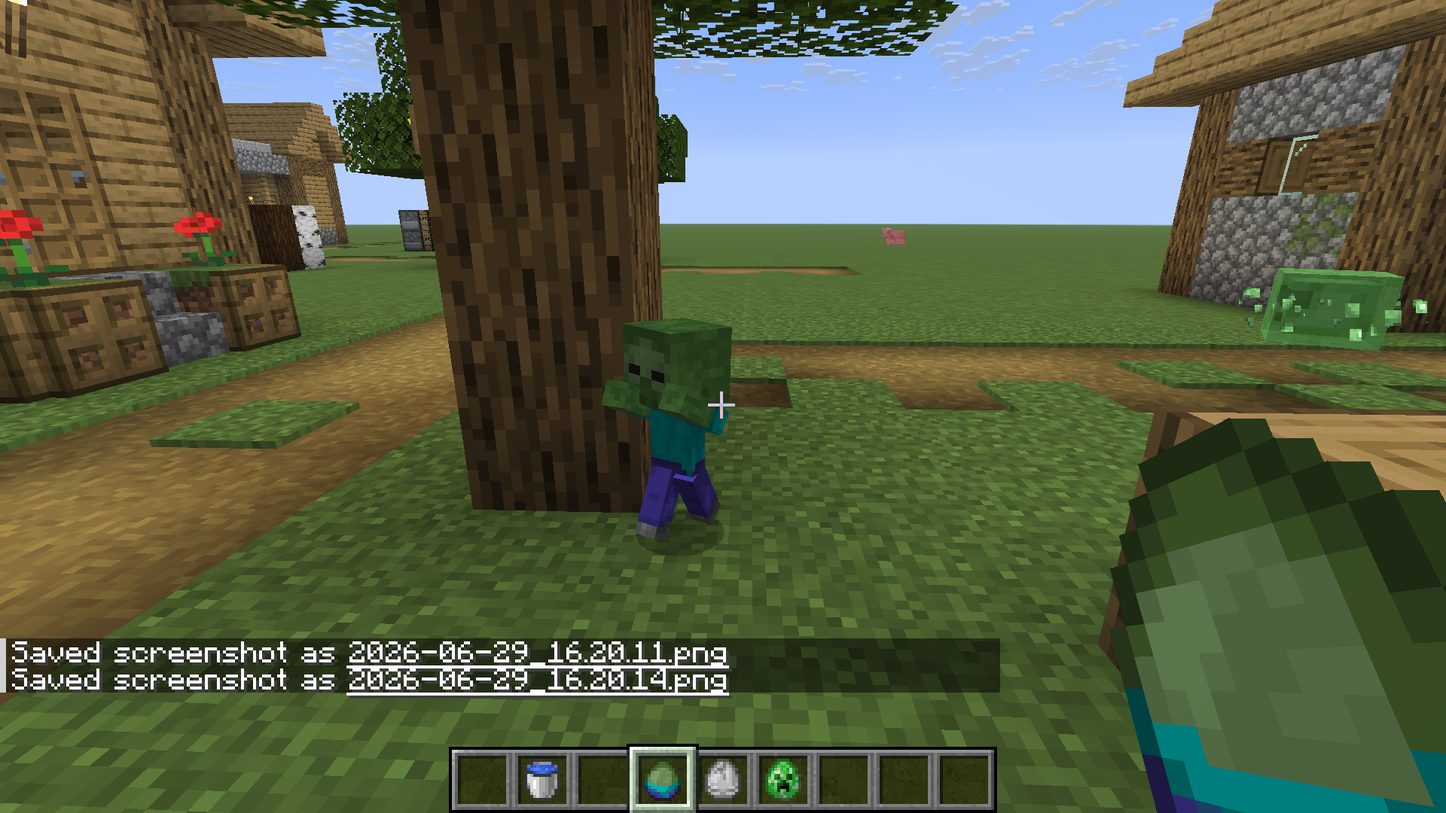zombie: (615, 307, 750, 541)
